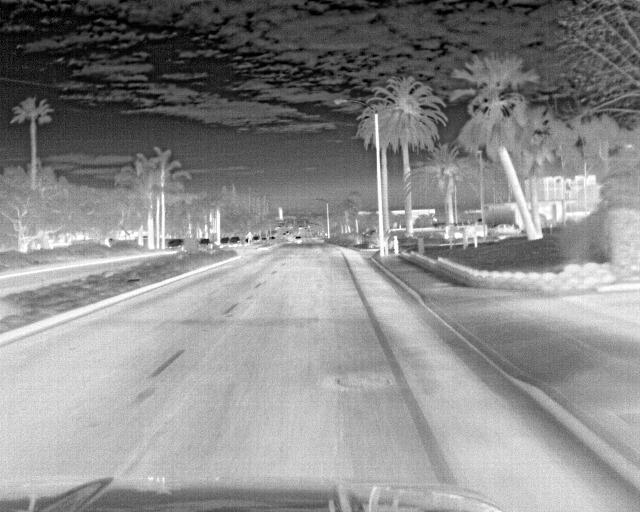car: (164, 239, 184, 252), (197, 236, 213, 251), (217, 236, 231, 249), (229, 235, 241, 248), (292, 233, 304, 245)
